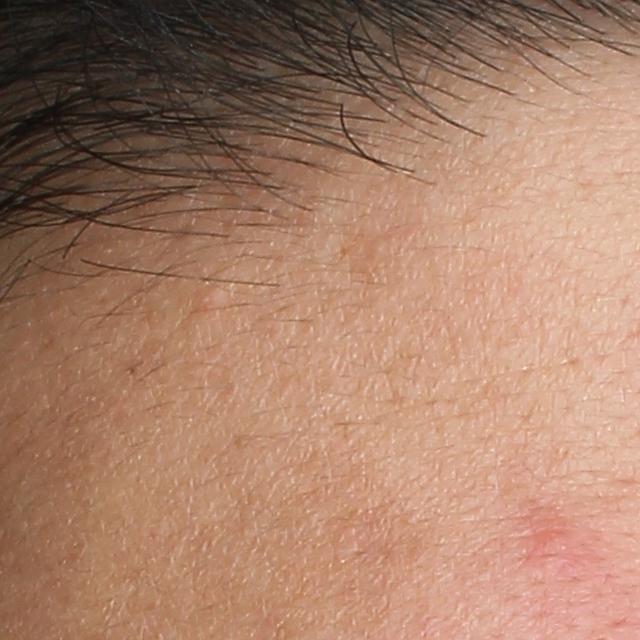comedo: (186, 284, 224, 310)
